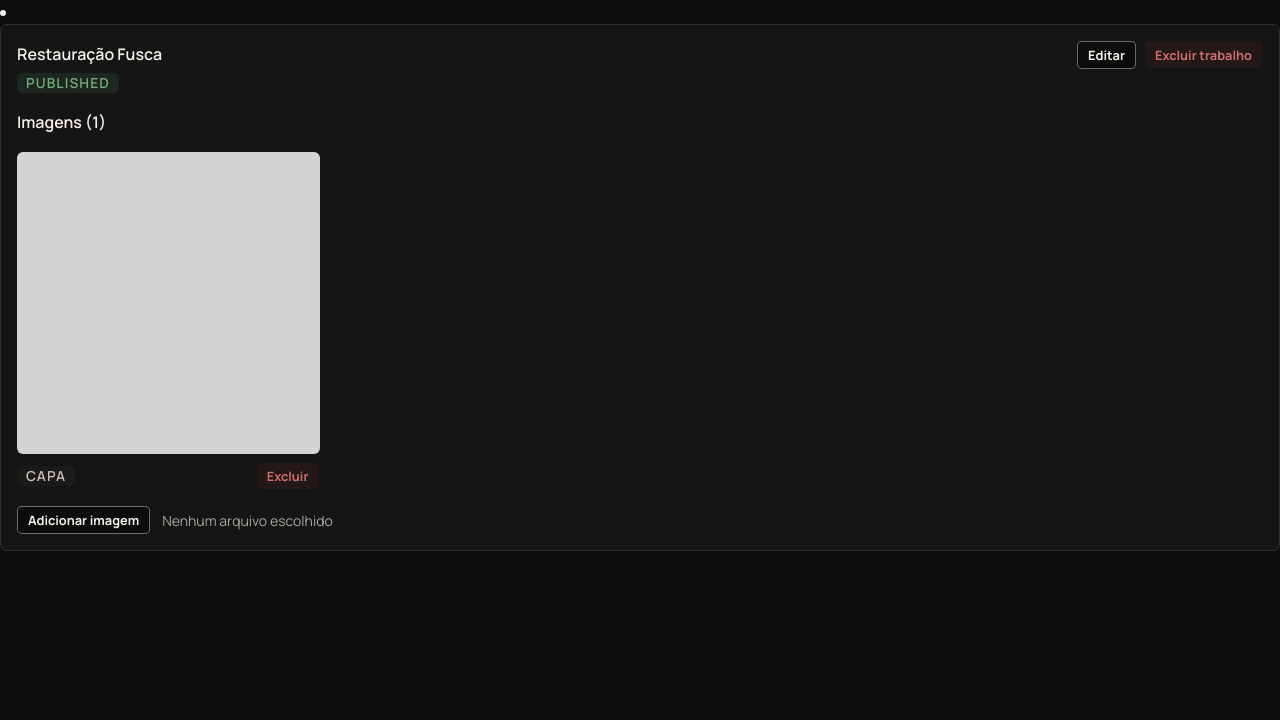
Test case: WorkListItem › remoção de imagem existente (CARSHOP-34) › reabilita a confirmação ao abrir uma nova remoção após um 404
Click the button with aria-label "Excluir imagem 1: Banco restaurado" at coordinates (288, 476), box 256,462 -> 320,490
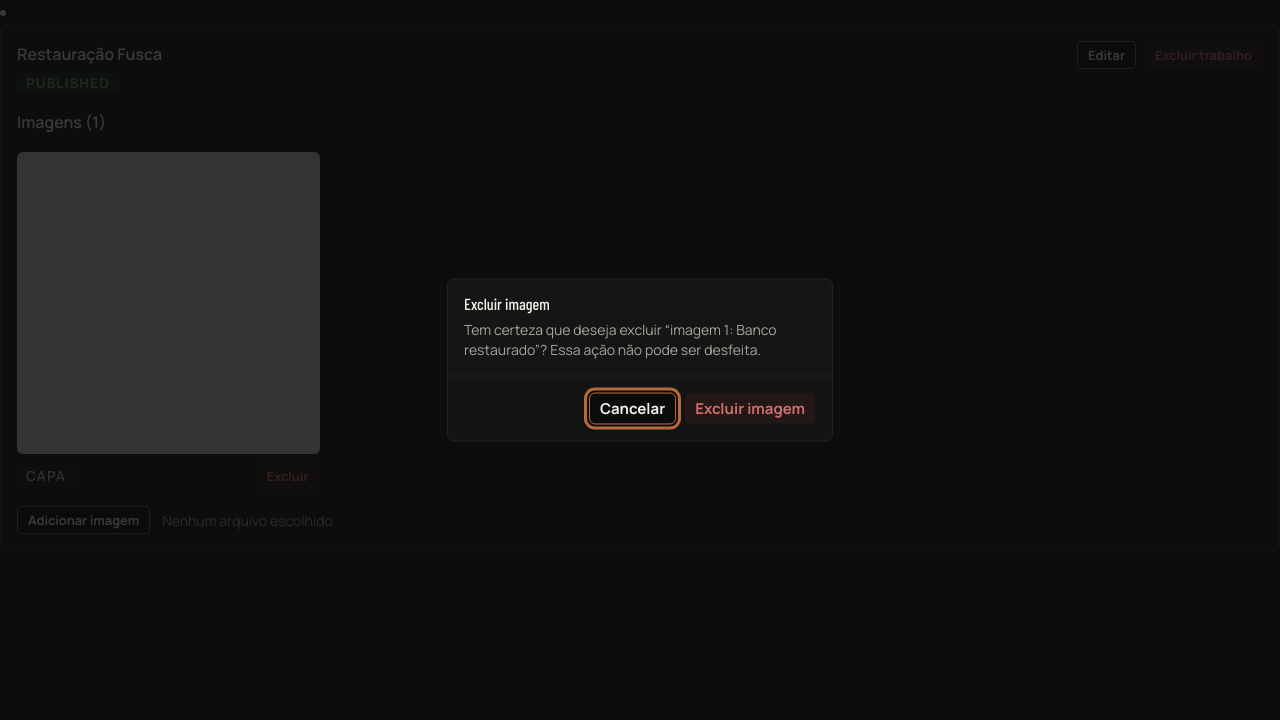
Click the button "Excluir imagem" at coordinates (750, 408), box 684,392 -> 816,424
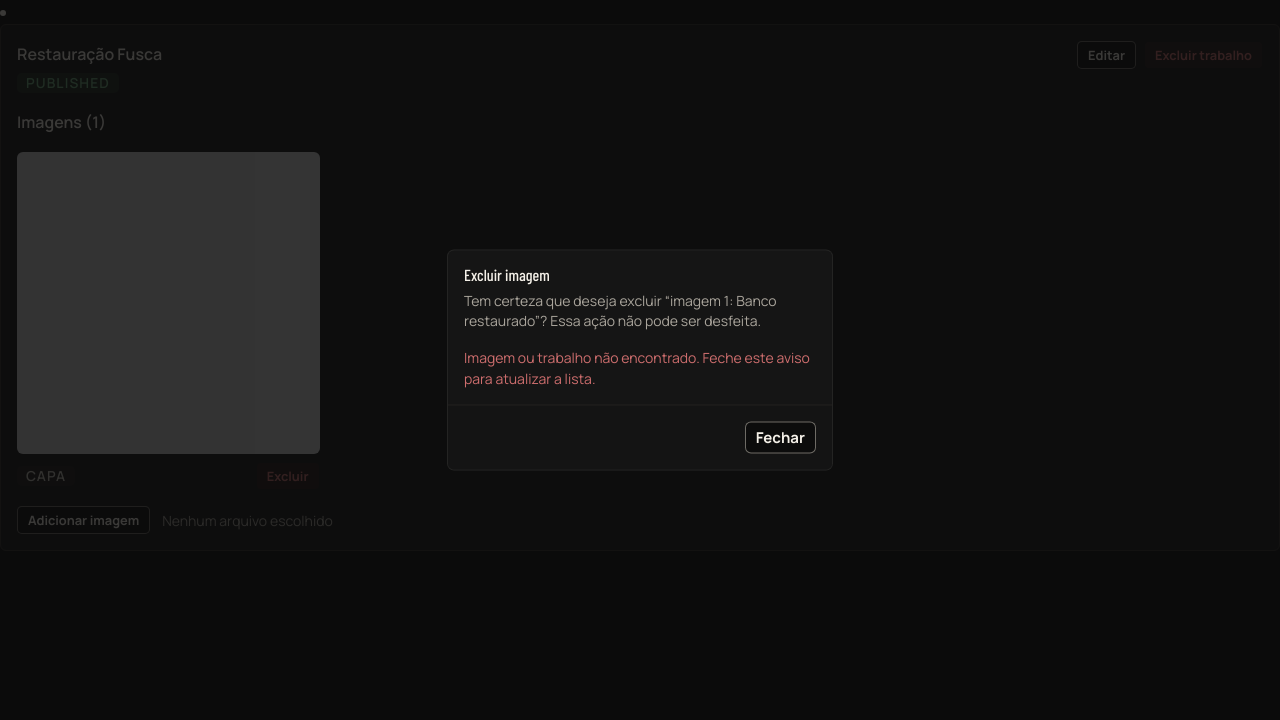
Result: the message "Imagem ou trabalho não encontrado. Feche este aviso para atualizar a lista." is shown at 464,346 -> 816,388
Click the button "Fechar" at coordinates (780, 438), box 745,422 -> 816,454
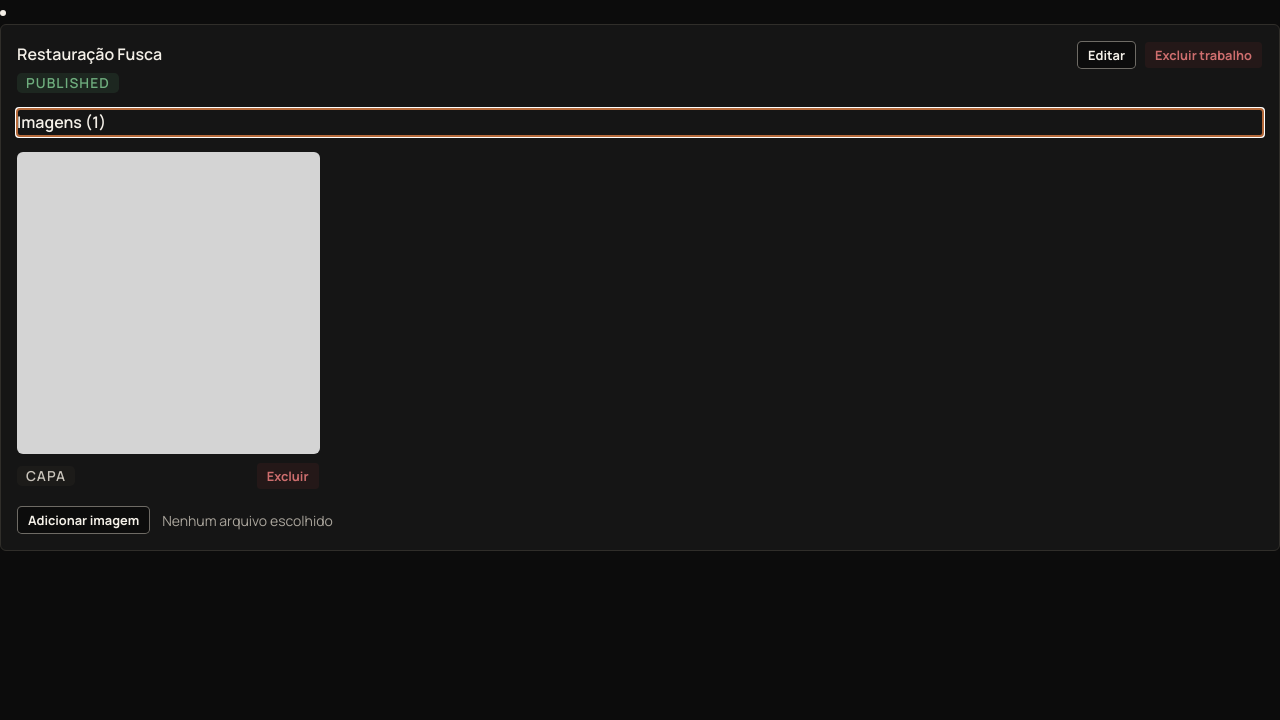
Result: the dialog is gone
Click the button with aria-label "Excluir imagem 1: Banco restaurado" at coordinates (288, 476), box 256,462 -> 320,490
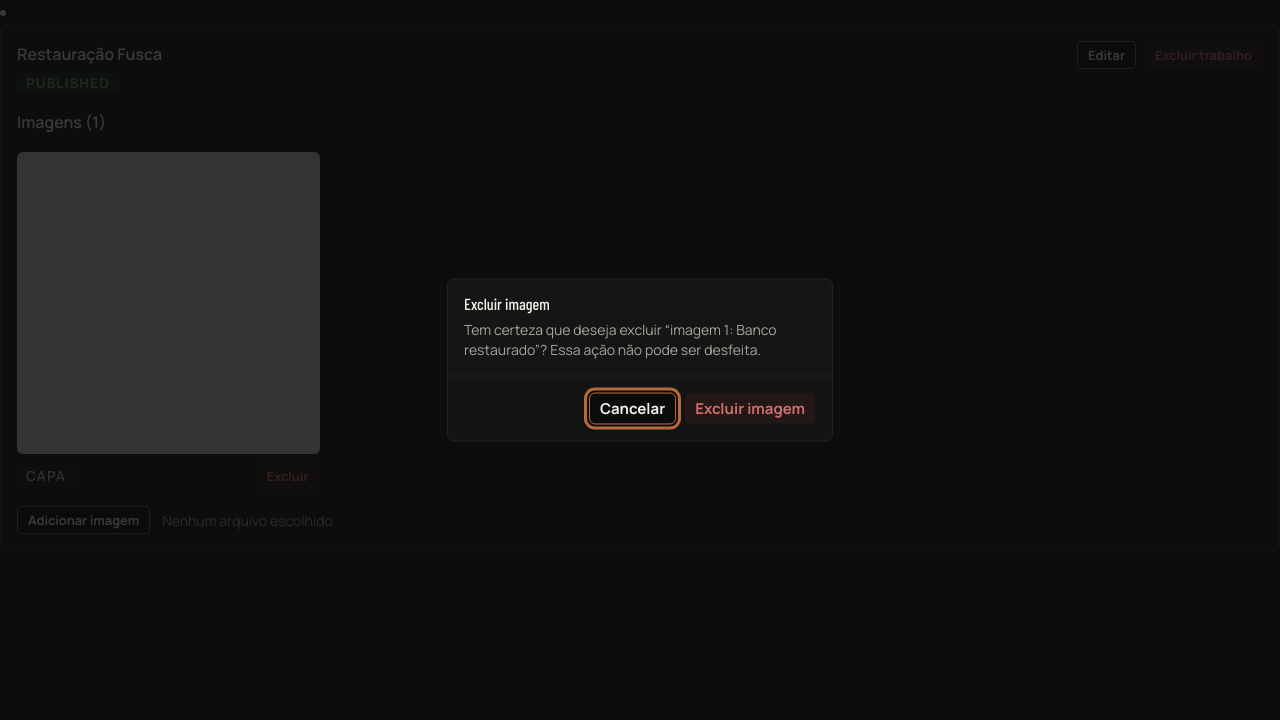
Expected: the message "Imagem ou trabalho não encontrado. Feche este aviso para atualizar a lista." is not shown
Result: the button "Excluir imagem" is enabled at 684,392 -> 816,424
